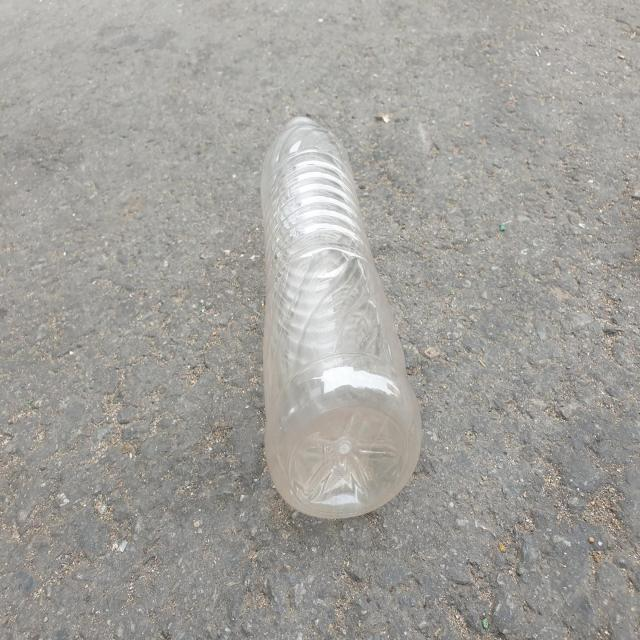plastic: (261, 116, 422, 519)
